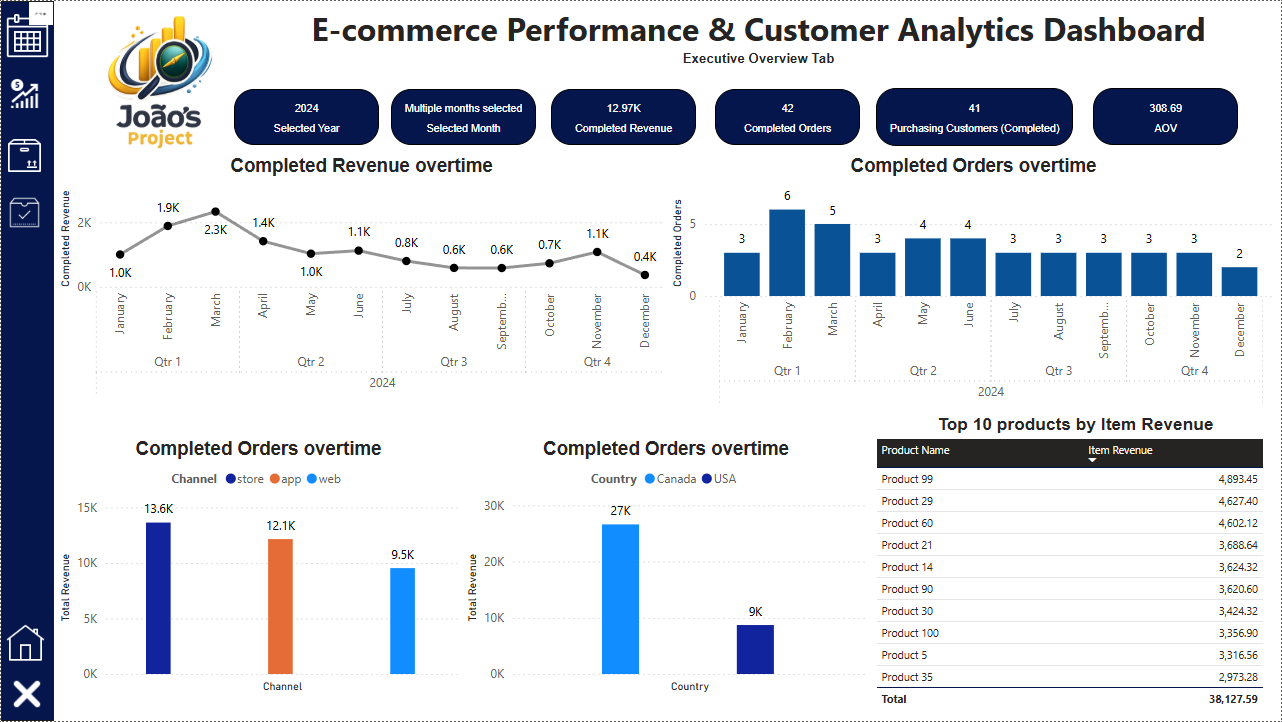

The dashboard page shown, as its layout file describes it:
{"tool":"powerbi","page":{"name":"Executive Overview","canvas":[1280,720],"ordinal":1},"visuals":[{"type":"image","title":"Logo","box":[52.6,0,211.3,165.9],"z":0},{"type":"shape","title":"Side Bar","box":[0,0,52.9,720],"z":1000},{"type":"actionButton","title":"Date Filter Button","box":[0,7.9,53.1,54.2],"z":2000},{"type":"clusteredColumnChart","title":"Completed Orders overtime","fields":{"Y":["Measure.Completed Orders"],"Category":["dim_date.full_date.Variation.Date Hierarchy.Year","dim_date.full_date.Variation.Date Hierarchy.Quarter","dim_date.full_date.Variation.Date Hierarchy.Month","dim_date.full_date.Variation.Date Hierarchy.Day"]},"box":[666.5,154.2,613.9,258.4],"z":3000},{"type":"lineChart","title":"Completed Revenue overtime","fields":{"Category":["dim_date.full_date.Variation.Date Hierarchy.Year","dim_date.full_date.Variation.Date Hierarchy.Quarter","dim_date.full_date.Variation.Date Hierarchy.Month","dim_date.full_date.Variation.Date Hierarchy.Day"],"Y":["Measure.Completed Revenue"]},"box":[53.5,154.2,614,258.4],"z":4000},{"type":"clusteredColumnChart","title":"Completed Orders overtime","fields":{"Y":["Measure.Total Revenue"],"Category":["dim_customer.country"],"Series":["dim_customer.country"]},"box":[460.7,437.1,409,258.4],"z":5000},{"type":"clusteredColumnChart","title":"Completed Orders overtime","fields":{"Y":["Measure.Total Revenue"],"Category":["fact_order.channel"],"Series":["fact_order.channel"]},"box":[53.5,437.1,409,258.4],"z":6000},{"type":"actionButton","title":"Sales Trends Tab Button","box":[0,68.9,52.2,46.7],"z":7000},{"type":"actionButton","title":"Product Performance Tab Button","box":[0,131.1,52.2,46.7],"z":8000},{"type":"actionButton","title":"Data Quality & Notes Tab Button","box":[0,187.9,52.3,46.7],"z":9000},{"type":"card","title":"Selected Year Card","fields":{"Values":["Measure.Selected Year"]},"box":[232.5,87.5,145,56.9],"z":11000},{"type":"actionButton","title":"Home Page Tab Button","box":[1.1,618.9,52.2,46.7],"z":12000},{"type":"card","title":"Selected Month Card","fields":{"Values":["Measure.Selected Month"]},"box":[390,87.5,145,56.9],"z":12500},{"type":"actionButton","title":"Close Button","box":[0,665.4,52,54.2],"z":16000},{"type":"card","title":"Purchasing Customers Card","fields":{"Values":["Measure.Purchasing Customers (Completed)"]},"box":[875,86.9,196.9,58.1],"z":17000},{"type":"card","title":"AOV Completed Card","fields":{"Values":["Measure.AOV (Completed)"]},"box":[1091.9,86.9,145,56.9],"z":18000},{"type":"card","title":"Completed Orders Card","fields":{"Values":["Measure.Completed Orders"]},"box":[713.8,87.5,145,56.9],"z":19000},{"type":"card","title":"Completed Revenue Card","fields":{"Values":["Measure.Completed Revenue"]},"box":[550,87.5,145,56.9],"z":20000},{"type":"tableEx","title":"Top 10 products by Item Revenue","fields":{"Values":["dim_product.product_name","Measure.Item Revenue"]},"box":[869.6,412.6,410.8,307.4],"z":21000},{"type":"textbox","title":"Report Name Text Box","box":[272.2,0,972.2,83.3],"z":22000}]}

Visuals, with their boxes on the page's 1280x720 design canvas (x1, y1, x2, y2). These are canvas units, not pixel positions in the 1282x722 screenshot, which may show the page scaled, cropped or inside an application window:
"Logo" image: bbox=(53, 0, 264, 166)
"Side Bar" shape: bbox=(0, 0, 53, 720)
"Date Filter Button" actionButton: bbox=(0, 8, 53, 62)
"Completed Orders overtime" clusteredColumnChart: bbox=(666, 154, 1280, 413)
"Completed Revenue overtime" lineChart: bbox=(54, 154, 668, 413)
"Completed Orders overtime" clusteredColumnChart: bbox=(461, 437, 870, 696)
"Completed Orders overtime" clusteredColumnChart: bbox=(54, 437, 462, 696)
"Sales Trends Tab Button" actionButton: bbox=(0, 69, 52, 116)
"Product Performance Tab Button" actionButton: bbox=(0, 131, 52, 178)
"Data Quality & Notes Tab Button" actionButton: bbox=(0, 188, 52, 235)
"Selected Year Card" card: bbox=(232, 88, 378, 144)
"Home Page Tab Button" actionButton: bbox=(1, 619, 53, 666)
"Selected Month Card" card: bbox=(390, 88, 535, 144)
"Close Button" actionButton: bbox=(0, 665, 52, 720)
"Purchasing Customers Card" card: bbox=(875, 87, 1072, 145)
"AOV Completed Card" card: bbox=(1092, 87, 1237, 144)
"Completed Orders Card" card: bbox=(714, 88, 859, 144)
"Completed Revenue Card" card: bbox=(550, 88, 695, 144)
"Top 10 products by Item Revenue" tableEx: bbox=(870, 413, 1280, 720)
"Report Name Text Box" textbox: bbox=(272, 0, 1244, 83)
